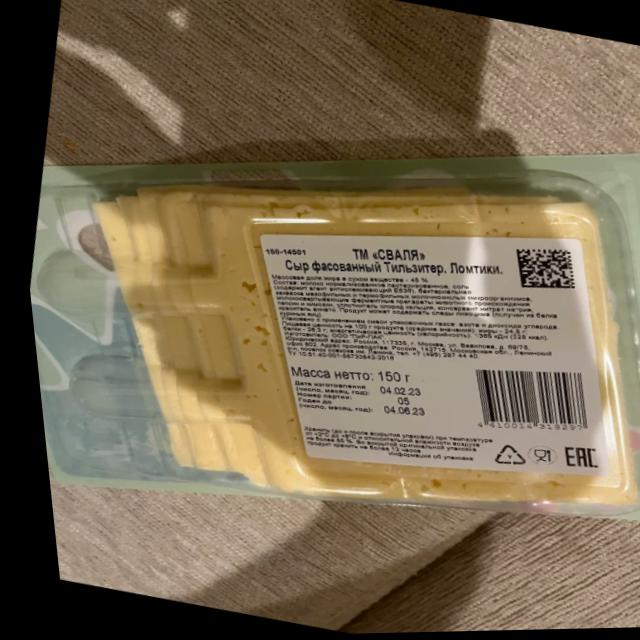datamatrix: (501, 241, 581, 303)
